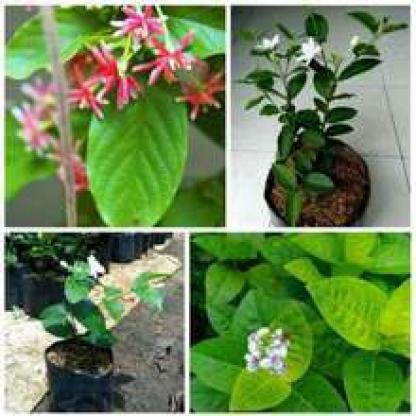Melati: (296, 35, 332, 71), (258, 35, 287, 58)
